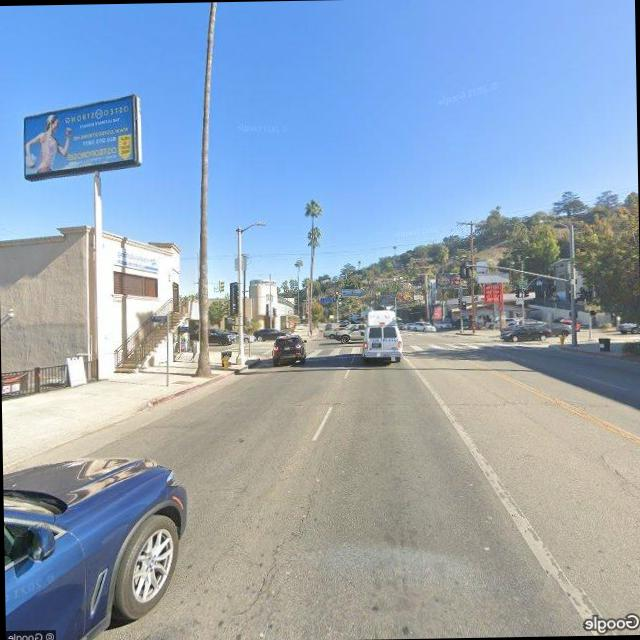pothole: (237, 476, 329, 618), (597, 447, 640, 512)
